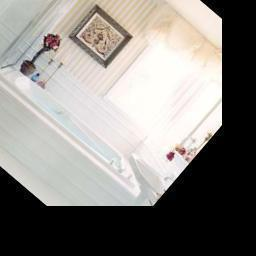Ducha: (0, 0, 90, 108)
